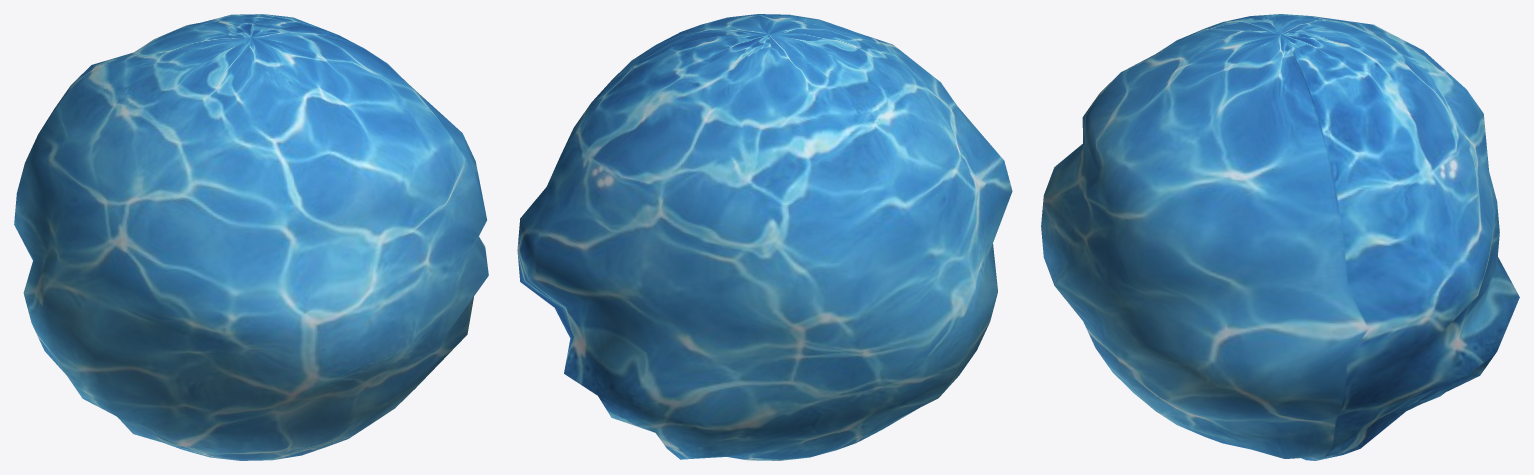
The model's file is polka_dots_1.obj.
3 renders of one model, left to right at view 1: azimuth 30°, elevation 25°; view 2: azimuth 150°, elevation 25°; view 3: azimuth 270°, elevation 25°, orthographic. The views are drawn at different scales.
Bounding box in the file's own units: 5.03 × 4.67 × 5.11.
1 material, 1 textured.
